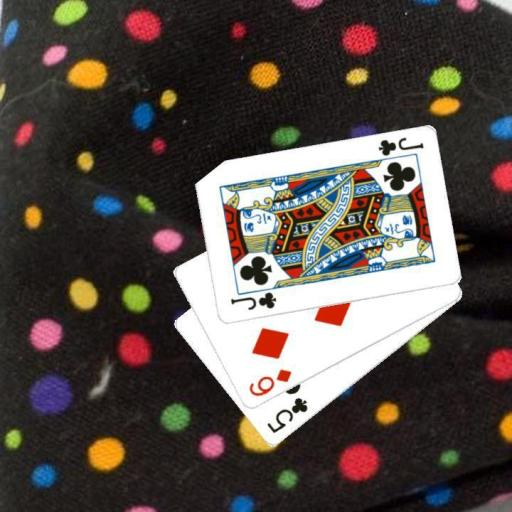card-corner: (264, 394, 309, 436), (245, 366, 293, 398), (374, 134, 424, 158), (227, 290, 277, 312)
